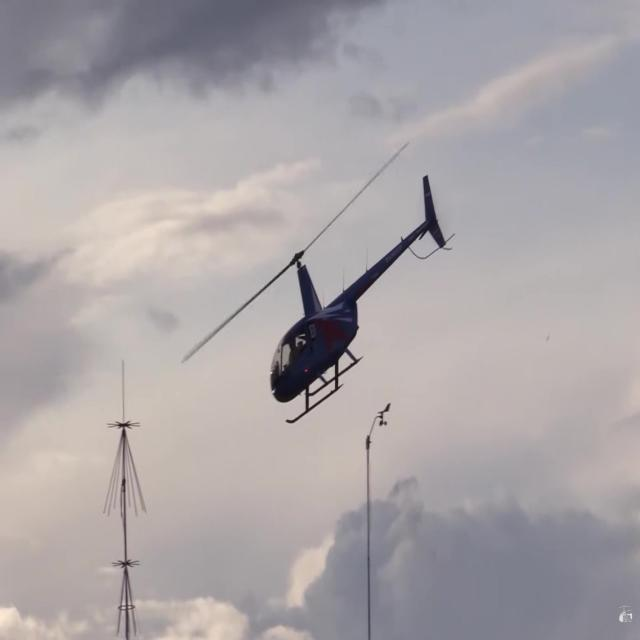CIV_HELO: (267, 173, 449, 425)
